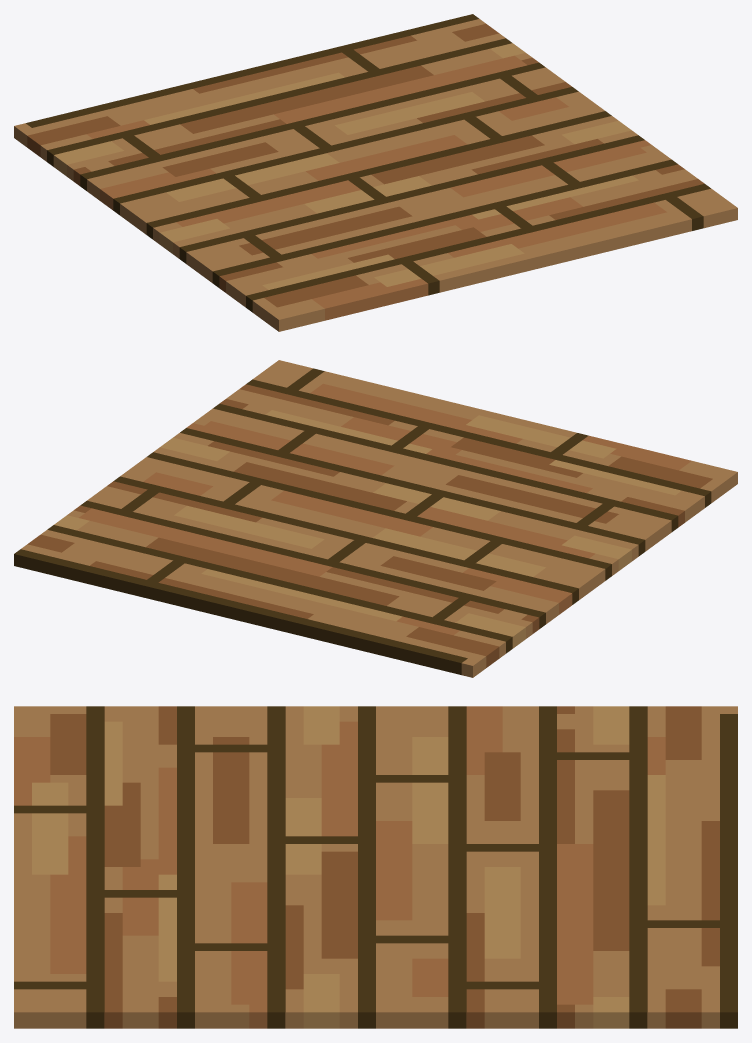
The model's file is Wood floor neat.obj.
3 views of the same model, one above another, from view 1: azimuth 30°, elevation 25°; view 2: azimuth 150°, elevation 25°; view 3: azimuth 270°, elevation 25° (orthographic). The views are drawn at different scales.
Bounding box in the file's own units: 4 × 0.1 × 4.
Materials: 1 (1 with a texture image).
